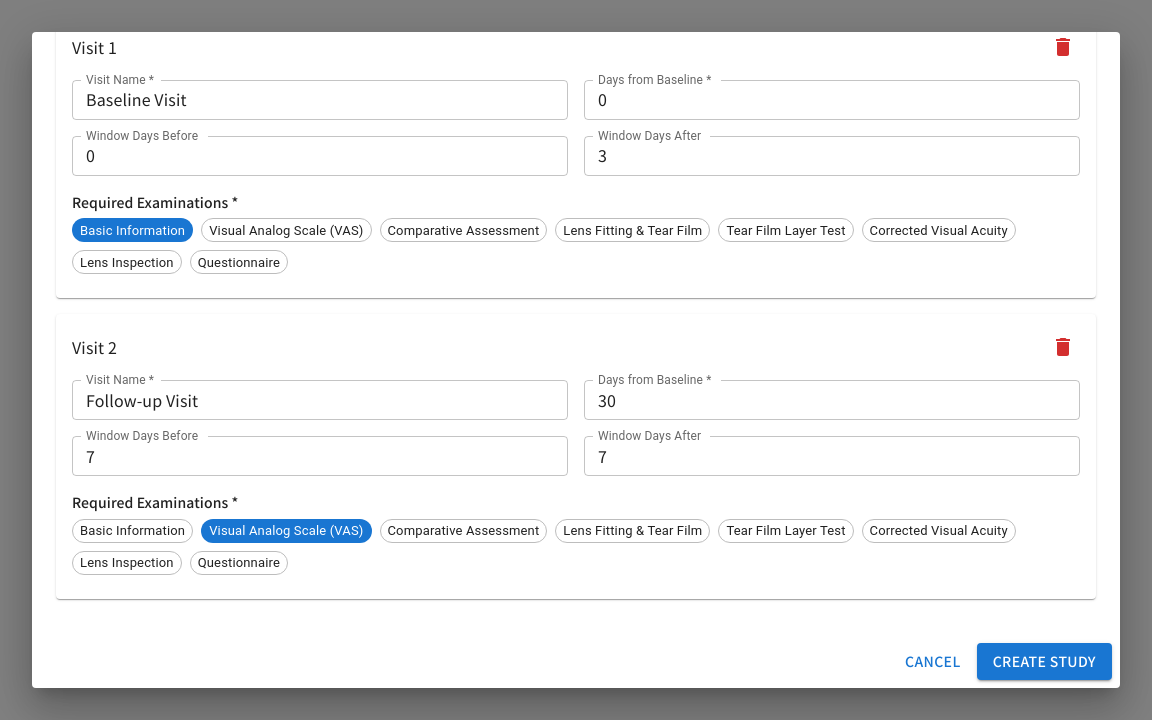
Test case: ClinicalStudyCreateForm › shows validation errors for required fields
(page scrolled)
What coordinates should you click on to do the following:
click the button "Create Study"
I would click on:
 (1044, 661)
Its box is [977, 643, 1112, 680].
(page scrolled)
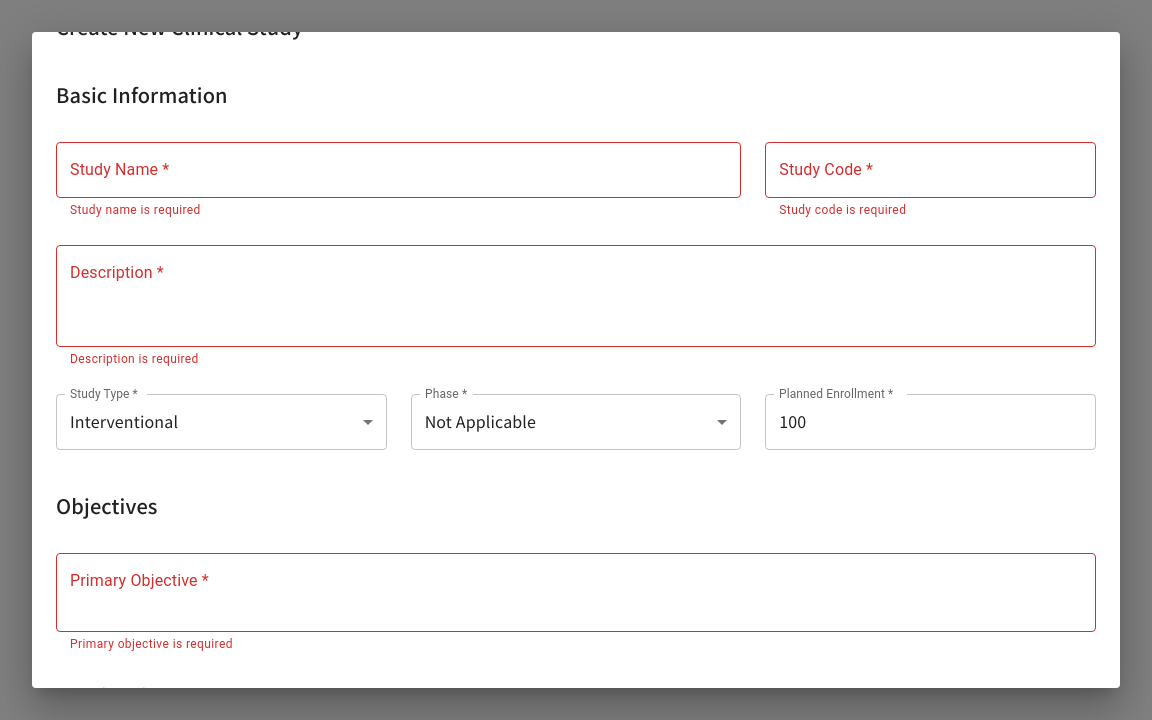
Expected: the text "Study name is required" is shown, [70, 203, 201, 217]
Expected: the text "Study code is required" is shown, [779, 203, 906, 217]
Expected: the text "Description is required" is shown, [70, 352, 199, 366]
